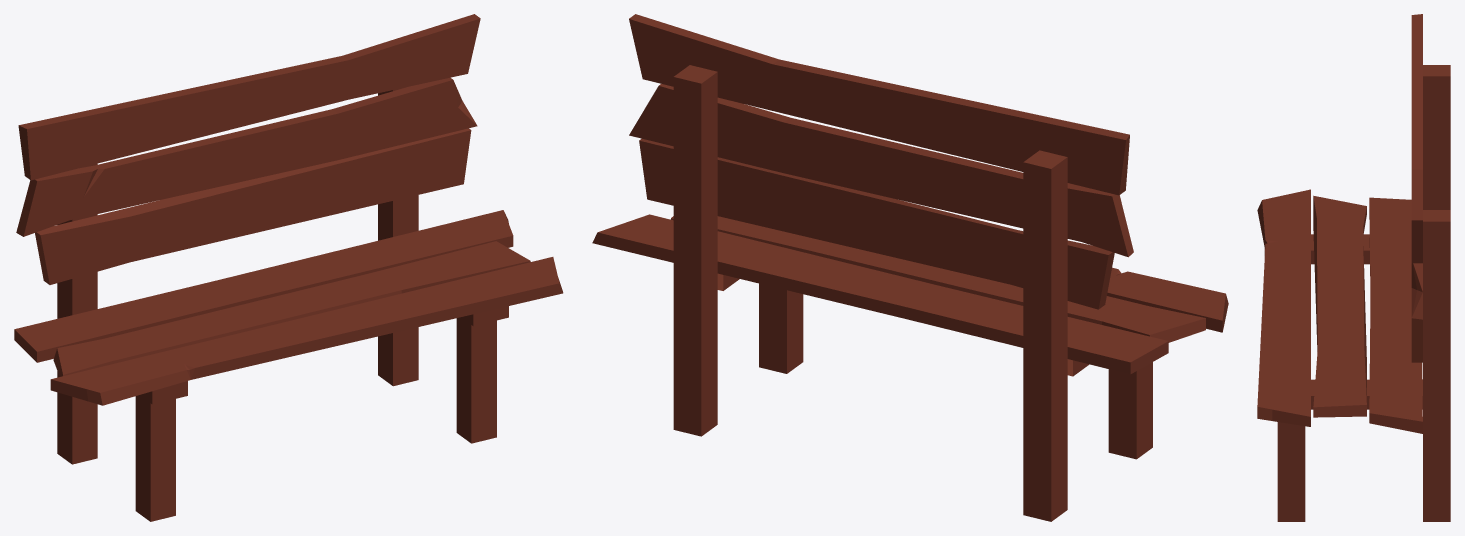
File: Bench_1.fbx
3 views of the same model, side by side, from view 1: azimuth 30°, elevation 25°; view 2: azimuth 150°, elevation 25°; view 3: azimuth 270°, elevation 25° (orthographic). The views are drawn at different scales.
Parts seen in each view (by area): view 1: Bench_1; view 2: Bench_1; view 3: Bench_1.
Part boxes in pixels (bbox=[...]): Bench_1: bbox=[14, 14, 563, 521]; Bench_1: bbox=[592, 14, 1228, 521]; Bench_1: bbox=[1257, 14, 1450, 521].
Bounding box in the file's own units: 159 × 55.53 × 104.
